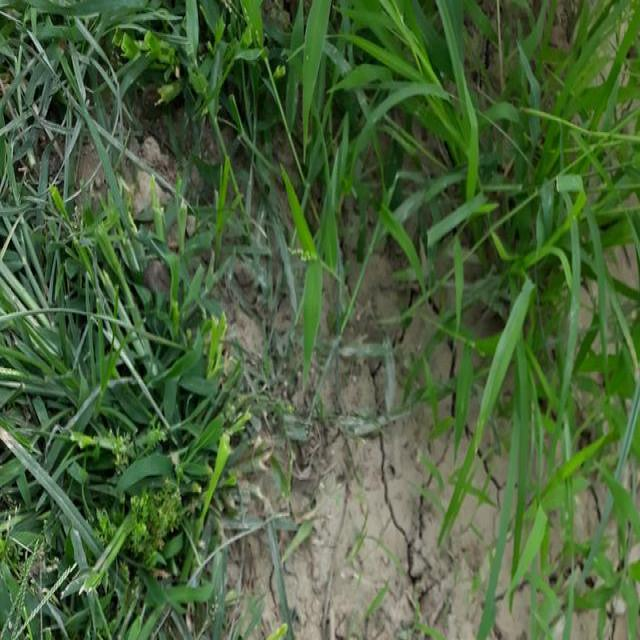weed: (3, 176, 262, 640), (289, 12, 640, 297)
